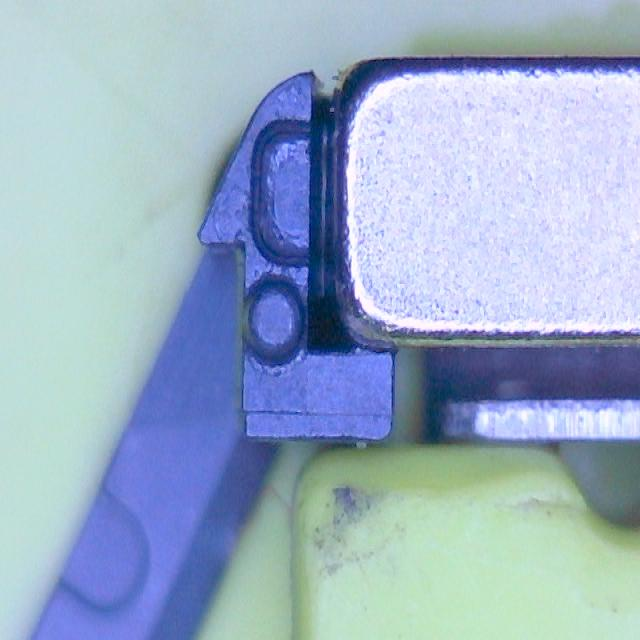lacking: (246, 118, 316, 270)
